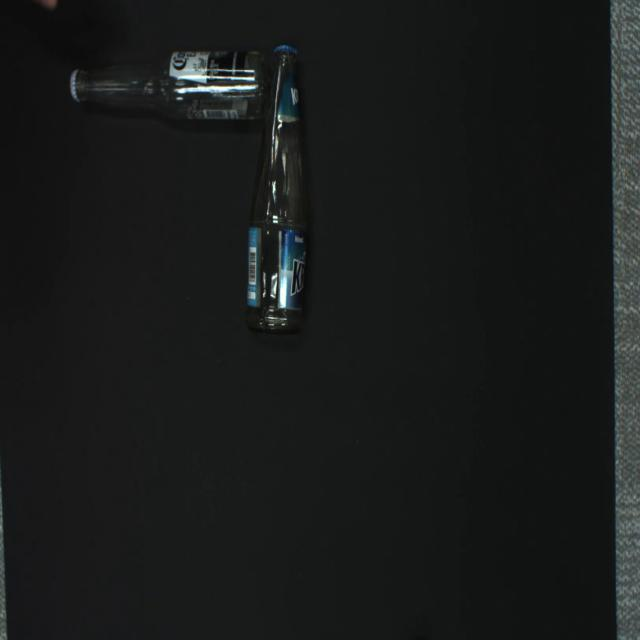beer-bottle: (245, 44, 308, 335), (69, 51, 270, 120)
